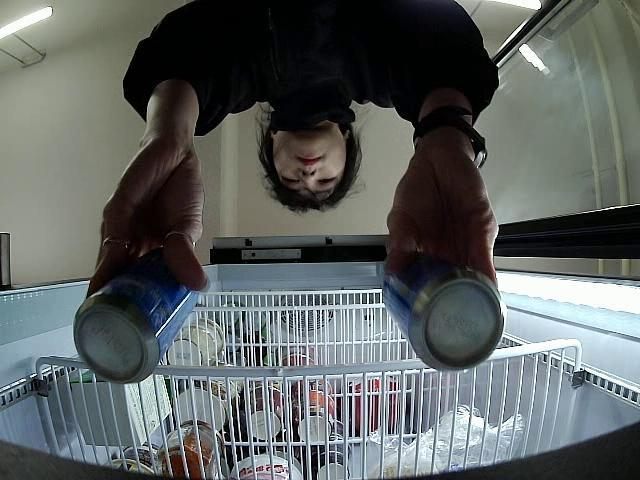15_letsbe: (74, 268, 200, 384), (382, 259, 508, 372)
